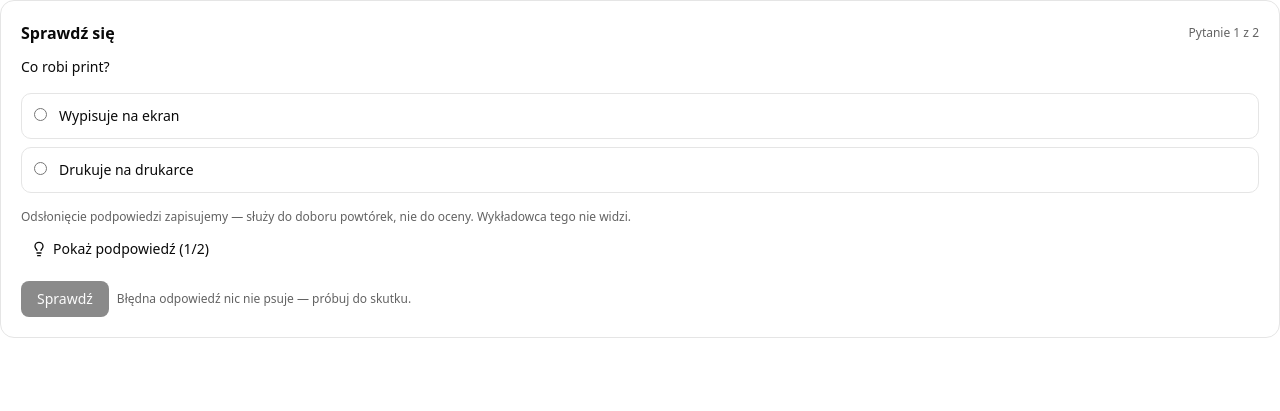
Test case: ItemRunner › D-a11y-1: po odsłonięciu podpowiedzi fokus trafia na nową podpowiedź (tabIndex -1)
Click the button "Pokaż podpowiedź (1/2)": {"x": 120, "y": 249} [21, 233, 219, 265]
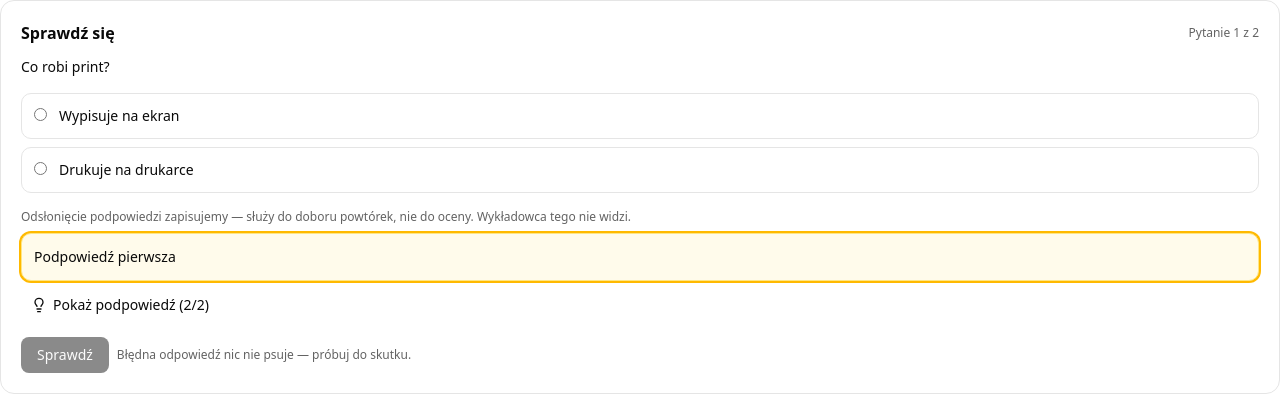
Now the text "Podpowiedź pierwsza" is shown, box [21, 233, 1259, 281]
